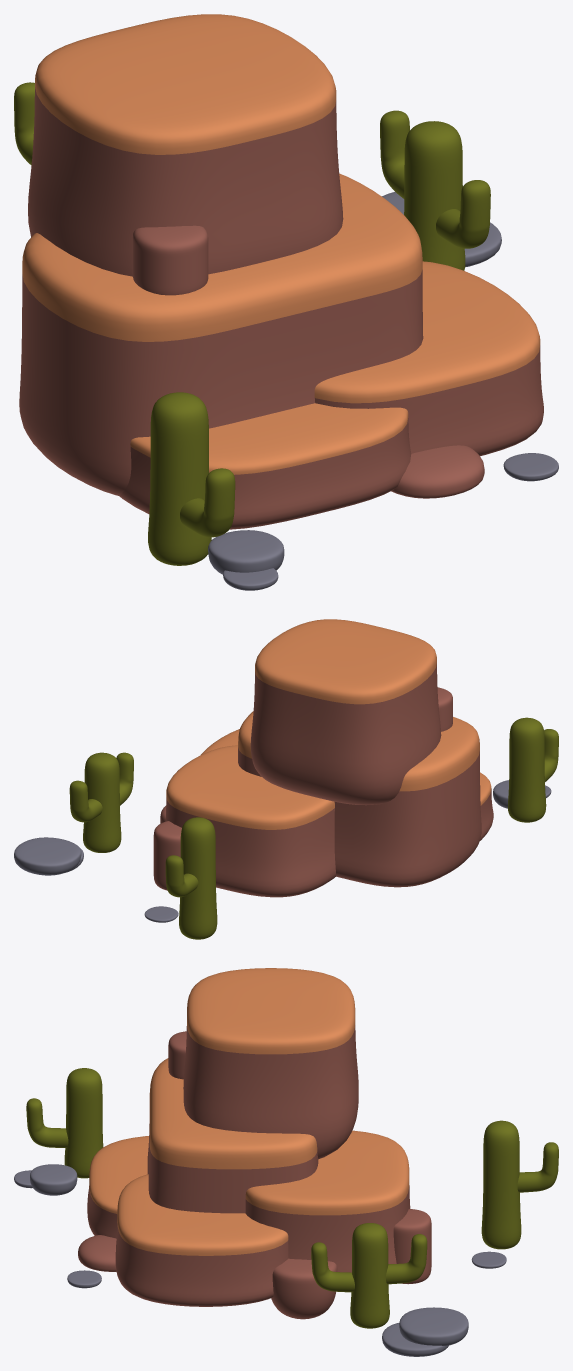
File: RocknCactus.fbx
3 views of the same model, one above another, from view 1: azimuth 30°, elevation 25°; view 2: azimuth 150°, elevation 25°; view 3: azimuth 270°, elevation 25° (orthographic). The views are drawn at different scales.
Visible parts, largest first — view 1: Cube.048, Cube.051, Cube.049, Cube.040, Cube.045, Cube.043, Cube.031, Cube.038, Cube.035, Cube.044, Cube.041, Cube.042 (+4 smaller); view 2: Cube.048, Cube.051, Cube.050, Cube.047, Cube.045, Cube.043, Cube.037, Cube.030, Cube.046, Cube.042, Cube.040, Cube.041 (+3 smaller); view 3: Cube.048, Cube.049, Cube.051, Cube.050, Cube.047, Cube.040, Cube.043, Cube.045, Cube.039, Cube.037, Cube.030, Cube.035 (+9 smaller).
Part boxes in pixels (x1=…): Cube.048: x1=28, y1=14, x2=343, y2=276; Cube.051: x1=19, y1=173, x2=423, y2=495; Cube.049: x1=314, y1=261, x2=543, y2=456; Cube.040: x1=119, y1=403, x2=411, y2=529; Cube.045: x1=148, y1=392, x2=211, y2=565; Cube.043: x1=404, y1=121, x2=465, y2=270; Cube.031: x1=132, y1=225, x2=208, y2=295; Cube.038: x1=391, y1=445, x2=484, y2=498; Cube.035: x1=208, y1=530, x2=284, y2=574; Cube.044: x1=180, y1=468, x2=235, y2=537; Cube.041: x1=436, y1=180, x2=490, y2=248; Cube.042: x1=380, y1=110, x2=409, y2=198; Cube.048: x1=250, y1=619, x2=441, y2=805; Cube.051: x1=238, y1=711, x2=481, y2=887; Cube.050: x1=165, y1=745, x2=336, y2=897; Cube.047: x1=179, y1=817, x2=217, y2=939; Cube.045: x1=507, y1=717, x2=546, y2=822; Cube.043: x1=83, y1=752, x2=121, y2=852; Cube.037: x1=14, y1=837, x2=81, y2=875; Cube.030: x1=153, y1=821, x2=181, y2=890; Cube.046: x1=165, y1=855, x2=198, y2=897; Cube.042: x1=69, y1=780, x2=102, y2=822; Cube.040: x1=479, y1=772, x2=493, y2=840; Cube.041: x1=116, y1=752, x2=133, y2=805; Cube.048: x1=183, y1=968, x2=358, y2=1159; Cube.049: x1=115, y1=1174, x2=288, y2=1306; Cube.051: x1=147, y1=1058, x2=318, y2=1213; Cube.050: x1=245, y1=1130, x2=410, y2=1272; Cube.047: x1=481, y1=1120, x2=521, y2=1249; Cube.040: x1=87, y1=1136, x2=148, y2=1238; Cube.043: x1=350, y1=1223, x2=389, y2=1328; Cube.045: x1=64, y1=1068, x2=103, y2=1178; Cube.039: x1=271, y1=1258, x2=337, y2=1319; Cube.037: x1=399, y1=1307, x2=468, y2=1346; Cube.030: x1=393, y1=1209, x2=431, y2=1284; Cube.035: x1=30, y1=1164, x2=77, y2=1195.
Bounding box in the file's own units: 524 × 318 × 646.
